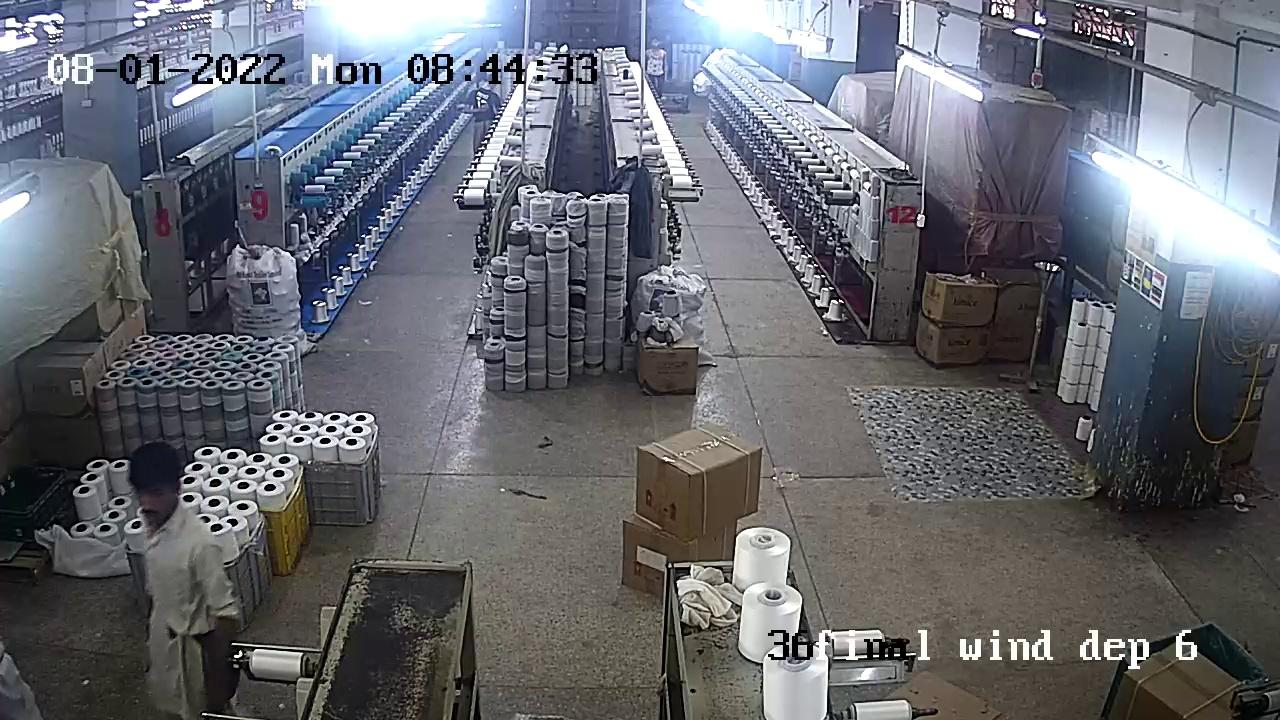person: (117, 445, 239, 663), (642, 33, 665, 93), (477, 72, 499, 132)
